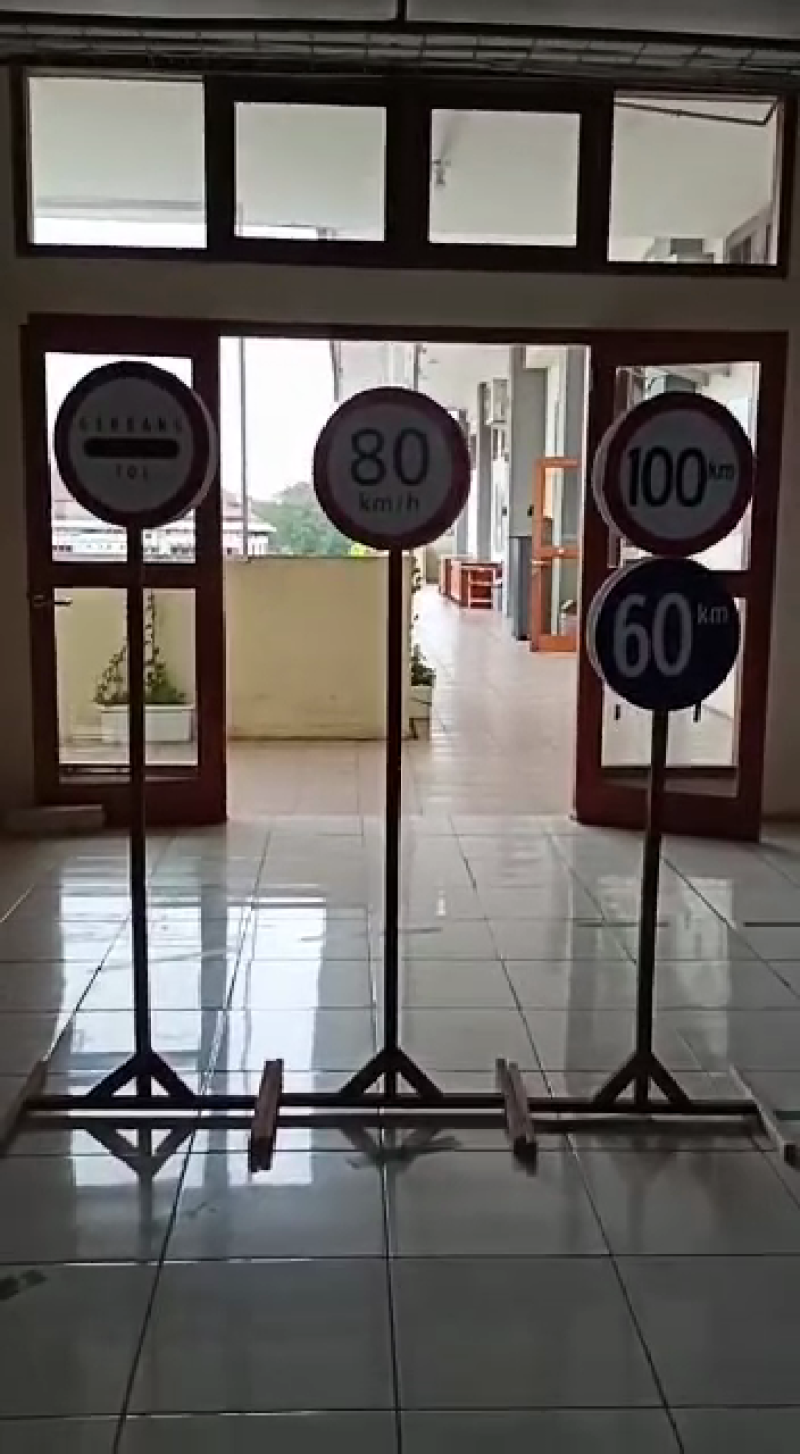batas maksimal 100kmperjam minimal 60kmperjam: (589, 381, 761, 735)
batas maksimal 80kmperjam: (309, 377, 468, 559)
gerbang tol: (50, 348, 220, 540)
